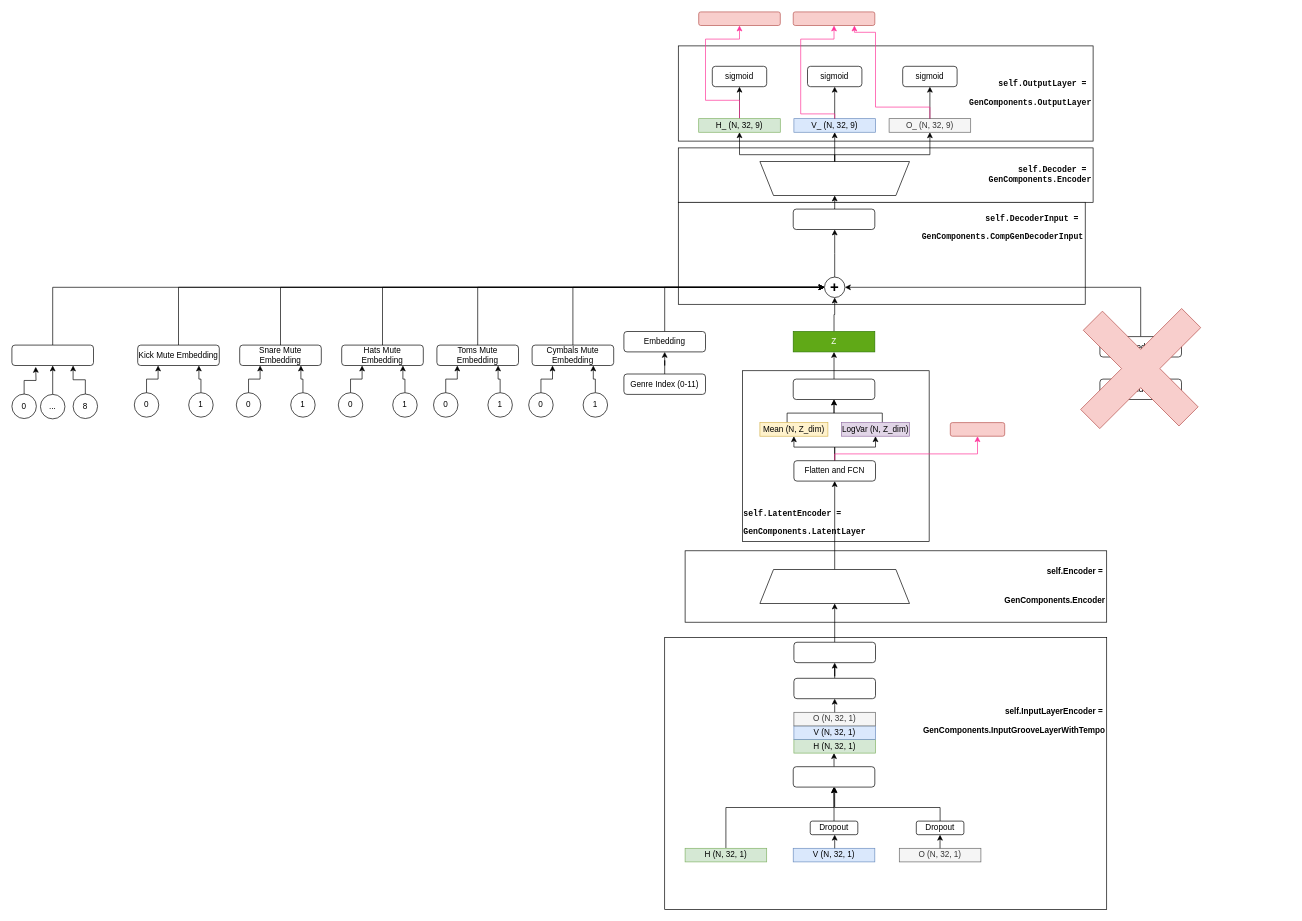
Some shapes in this 1302 by 921 pixel diagram are drawn without their labels. Here are the shapes that lost their labels. From the top down, the centre of each, then its label:
point 739,18: FocalLoss
point 834,18: BCEWithLogitLoss
point 834,178: Decoder
point 834,219: FCN and Reshape
point 52,355: Global Density
point 834,389: Reparametrize
point 977,429: KLDiv
point 834,586: Encoder
point 834,652: PositionalEncoding
point 834,688: Input Layer (FCN)
point 834,776: concat
